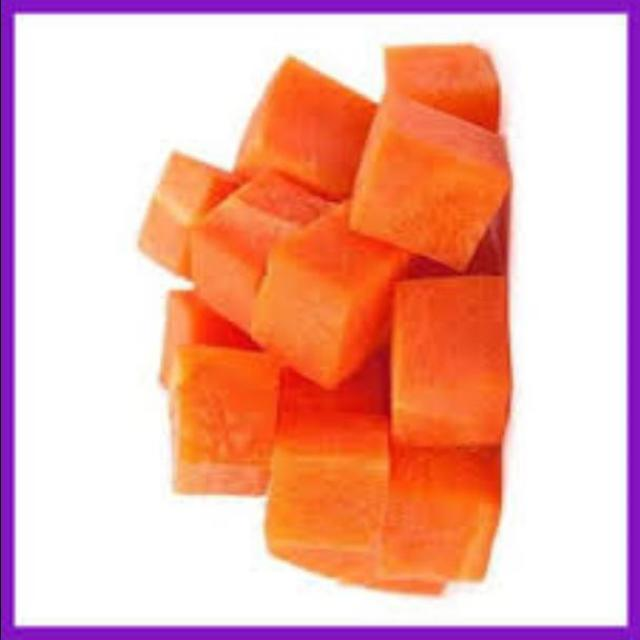Carrot: (123, 29, 528, 596)
